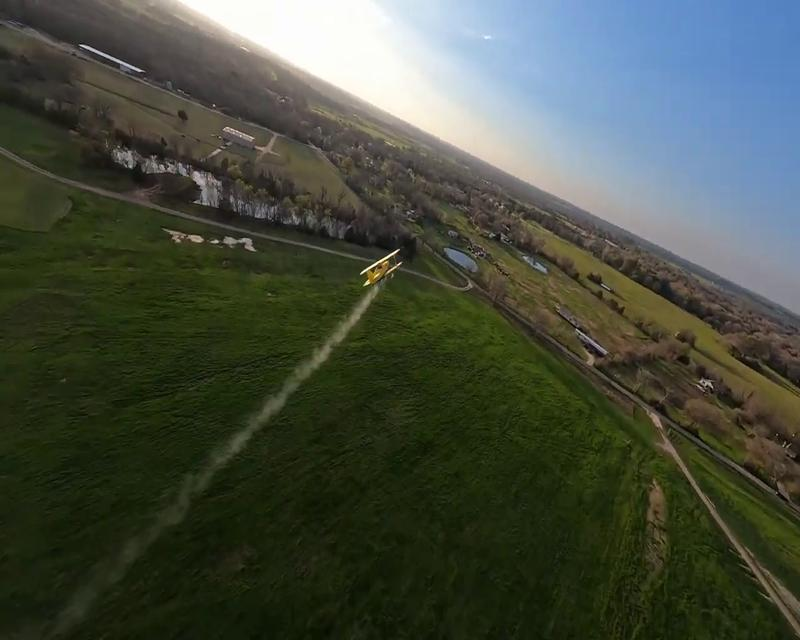UAV: (358, 246, 403, 287)
